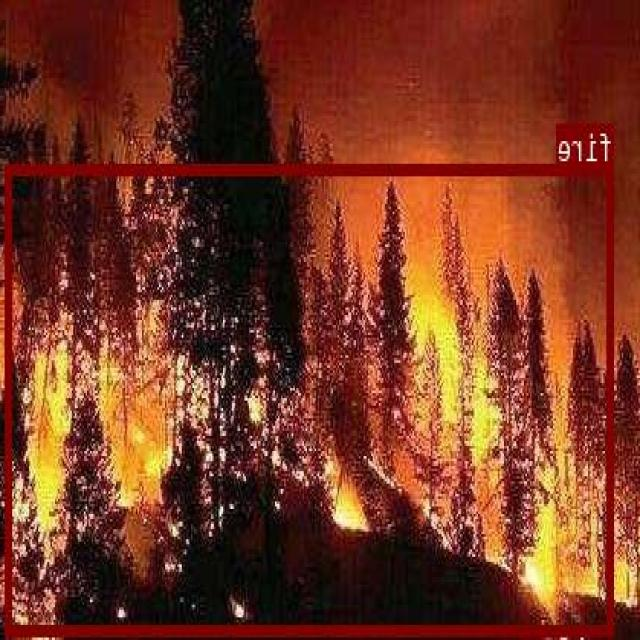fire: (6, 162, 615, 633)
